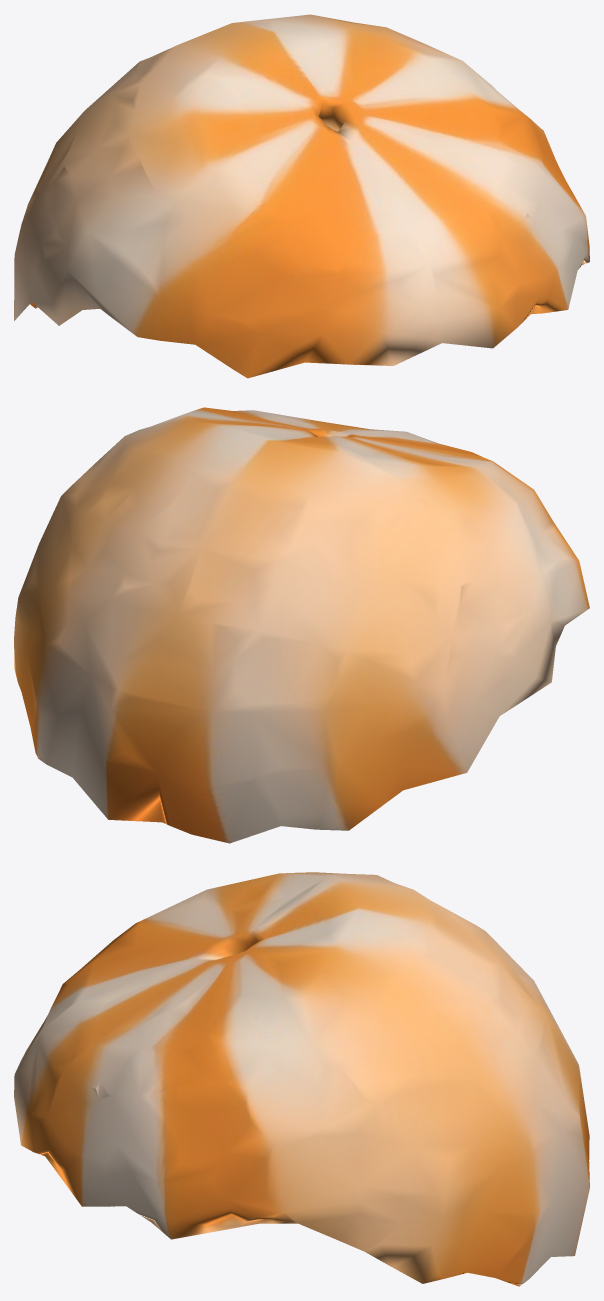
The model's file is reserve.glb.
3 renders of one model, top to bottom at view 1: azimuth 30°, elevation 25°; view 2: azimuth 150°, elevation 25°; view 3: azimuth 270°, elevation 25°, orthographic.
Visible parts, largest first — view 1: tripo_node_5618c4e0-5bb2-47a5-8966-375bc45197b7; view 2: tripo_node_5618c4e0-5bb2-47a5-8966-375bc45197b7; view 3: tripo_node_5618c4e0-5bb2-47a5-8966-375bc45197b7.
Part boxes in pixels (x1=…): tripo_node_5618c4e0-5bb2-47a5-8966-375bc45197b7: x1=14, y1=14, x2=589, y2=378; tripo_node_5618c4e0-5bb2-47a5-8966-375bc45197b7: x1=14, y1=407, x2=589, y2=843; tripo_node_5618c4e0-5bb2-47a5-8966-375bc45197b7: x1=14, y1=872, x2=589, y2=1286.
Bounding box in the file's own units: 1 × 0.6098 × 0.9915.
Materials: 1 (1 with a texture image).
